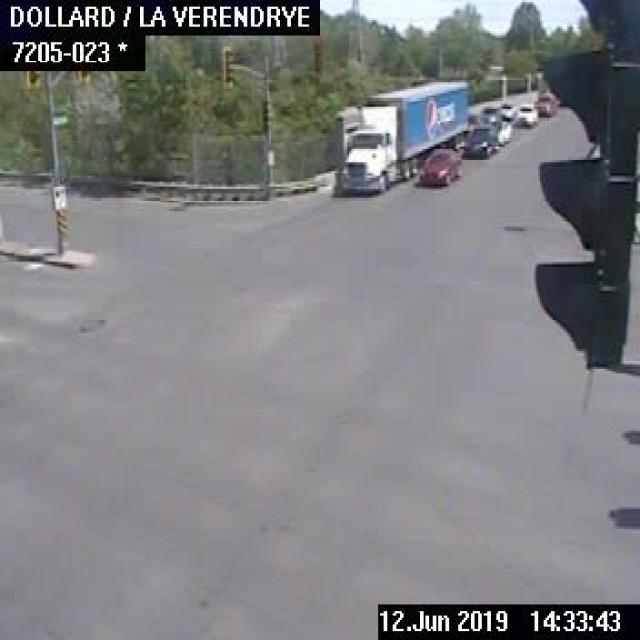vehicle: (337, 78, 469, 194), (419, 143, 460, 187), (462, 123, 497, 158), (511, 101, 538, 129), (534, 92, 560, 118), (488, 118, 509, 144), (480, 105, 499, 126), (499, 99, 513, 118)
